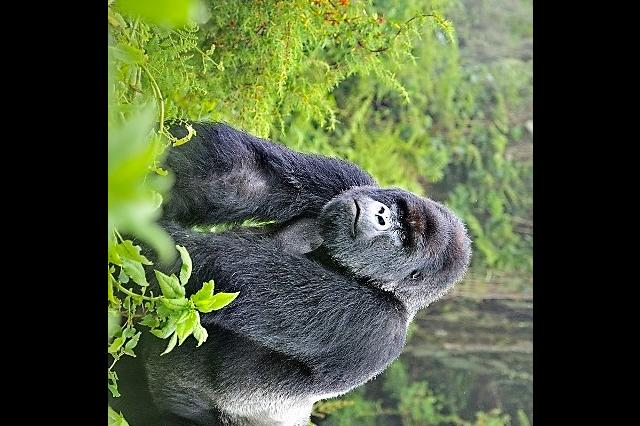goriile_montagne: (107, 121, 508, 426)
